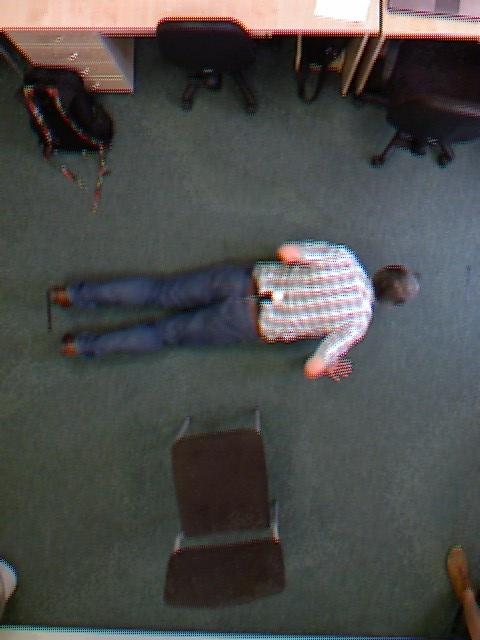fall: (176, 57, 290, 572)
